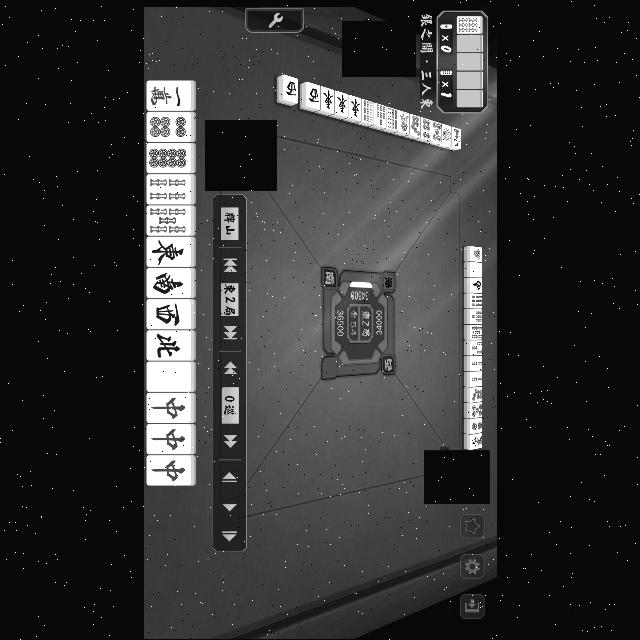1m: (147, 80, 190, 112)
1p: (441, 125, 452, 147)
1s: (396, 110, 408, 136)
2p: (463, 418, 483, 434)
2s: (462, 355, 484, 371), (462, 372, 483, 386)
3s: (463, 340, 482, 356)
4s: (147, 176, 191, 204)
5p: (464, 404, 484, 418), (431, 120, 441, 146)
5s: (147, 206, 190, 237), (465, 326, 483, 340)
6p: (147, 112, 190, 142), (421, 118, 431, 142)
6s: (384, 106, 400, 134), (458, 16, 482, 34)
7p: (462, 388, 483, 402), (410, 114, 422, 138)
7s: (372, 104, 386, 130), (462, 309, 483, 325)
8p: (146, 145, 190, 173)
9m: (462, 434, 483, 450), (451, 126, 462, 150)
9s: (360, 99, 374, 127), (463, 294, 482, 308)
chun: (147, 456, 191, 486), (146, 394, 192, 422), (148, 426, 192, 454)
haku: (147, 362, 190, 392), (464, 262, 484, 278)
hatsu: (462, 247, 482, 263)
nan: (146, 270, 190, 298), (463, 279, 483, 293)
pe: (147, 332, 191, 361)
sha: (148, 302, 190, 328), (275, 76, 299, 104), (302, 82, 322, 110)
tou: (146, 239, 188, 267), (334, 90, 350, 120), (319, 86, 335, 115), (346, 95, 362, 124)
